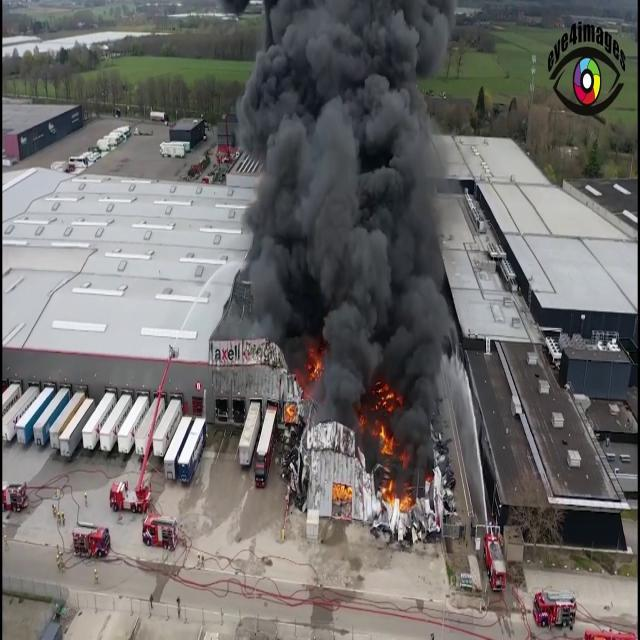Fire: (374, 412, 414, 510)
Smoke: (212, 0, 472, 358)
